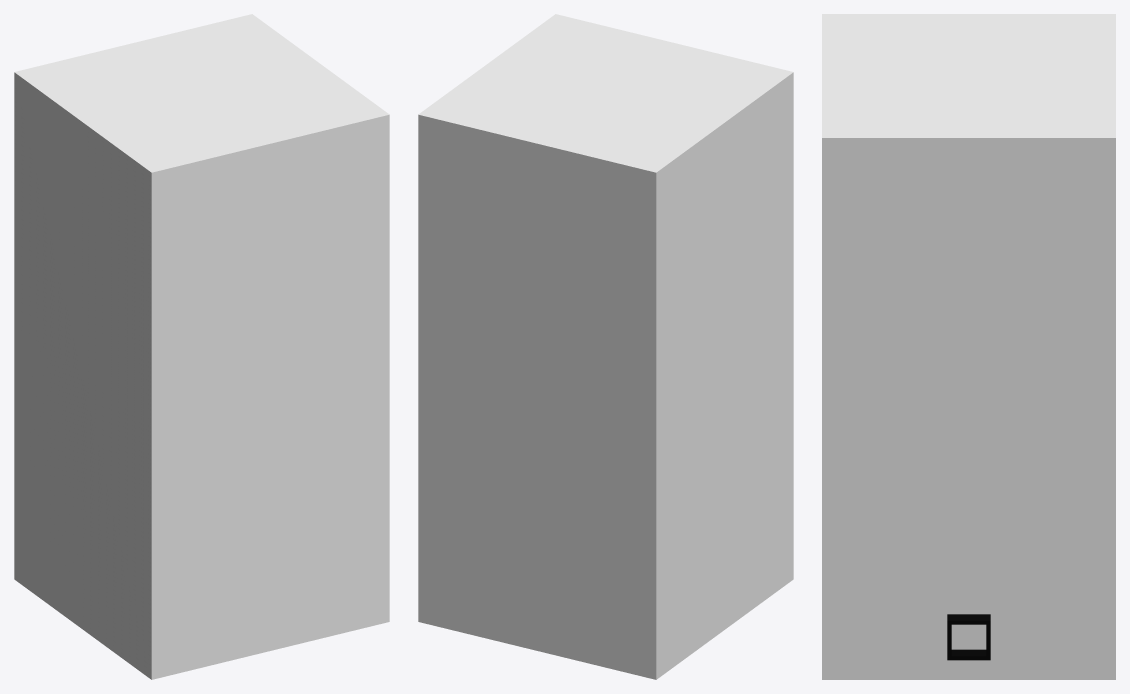
File: FInal tanque.glb
3 renders of one model, left to right at view 1: azimuth 30°, elevation 25°; view 2: azimuth 150°, elevation 25°; view 3: azimuth 270°, elevation 25°, orthographic. The views are drawn at different scales.
Parts seen in each view (by area): view 1: Cubo; view 2: Cubo; view 3: Cubo, Cilindro.001.
Part boxes in pixels (x1,y1,x2,y2): Cubo: [14, 14, 389, 679]; Cubo: [418, 14, 793, 679]; Cubo: [822, 14, 1115, 679]; Cilindro.001: [947, 614, 990, 660].
Size of the model in its own units: 14.18 by 27.43 by 13.48.
Materials: 2 (1 with a texture image).
